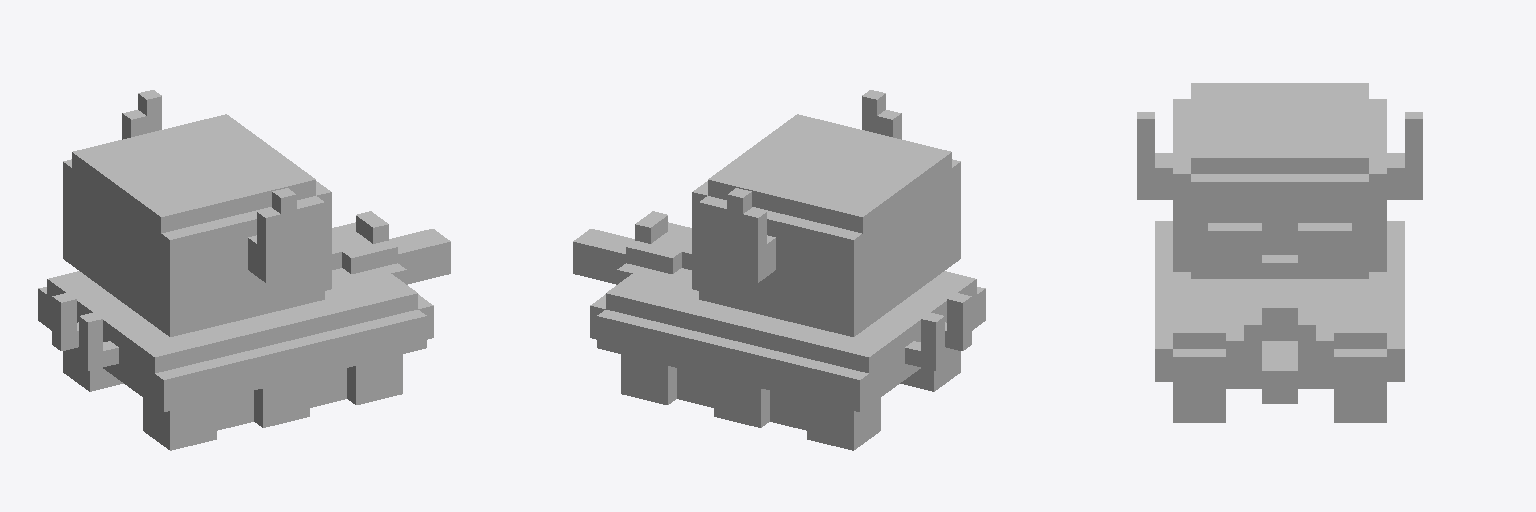
File: enemy_common.obj
3 renders of one model, left to right at view 1: azimuth 30°, elevation 25°; view 2: azimuth 150°, elevation 25°; view 3: azimuth 270°, elevation 25°, orthographic.
Visible parts, largest first — view 1: object 1; view 2: object 1; view 3: object 1.
Boxes of the visible parts, x1,y1,x2,y2 form: object 1: [38, 90, 450, 450]; object 1: [573, 90, 985, 450]; object 1: [1137, 83, 1422, 422].
Size of the model in its own units: 2.4 by 1.5 by 1.6.